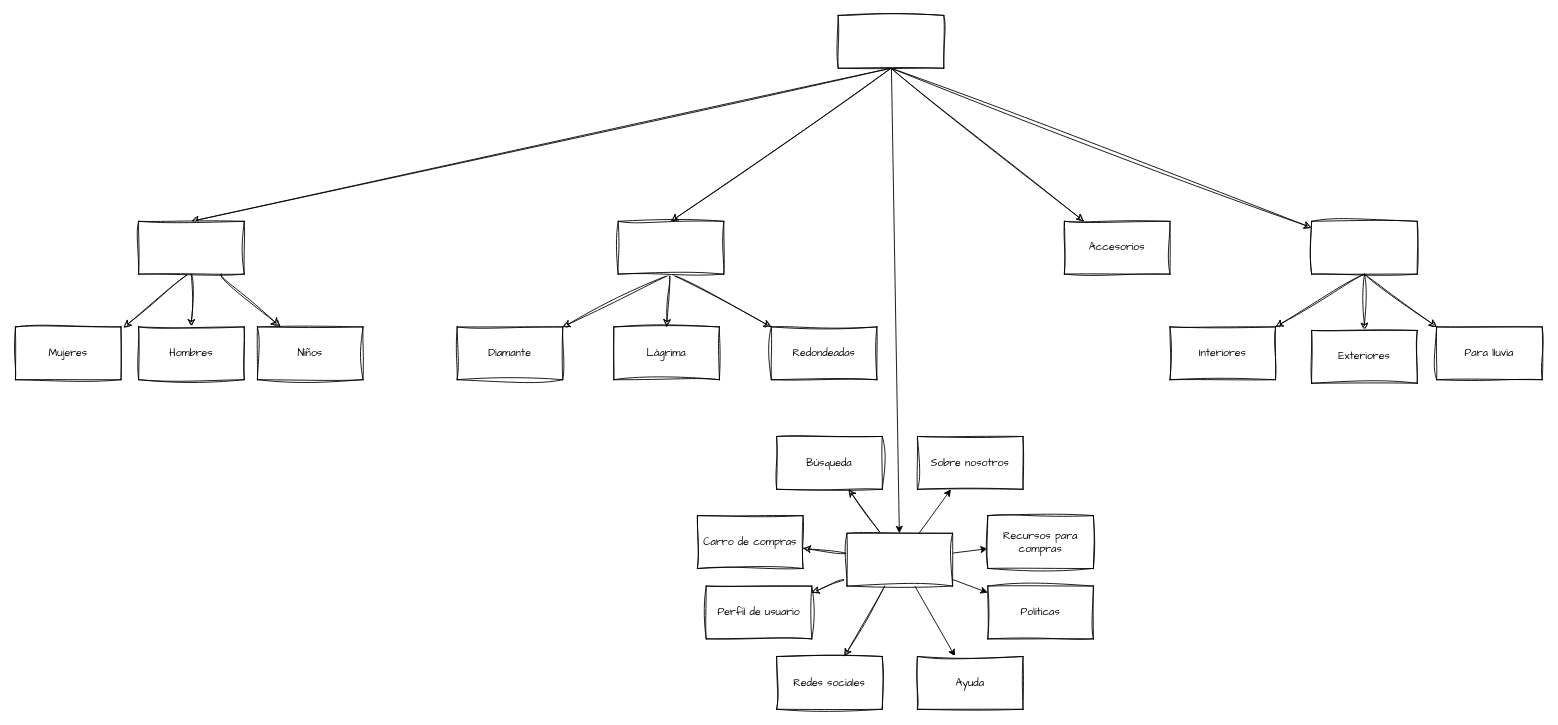
This 1558x725 diagram has some shape labels left out. Each missing label, with the box of its shape:
Calzado: (138, 220, 244, 274)
Global: (846, 532, 953, 586)
Home: (837, 15, 944, 68)
Palas: (617, 220, 724, 274)
Pelotas: (1311, 220, 1417, 274)
